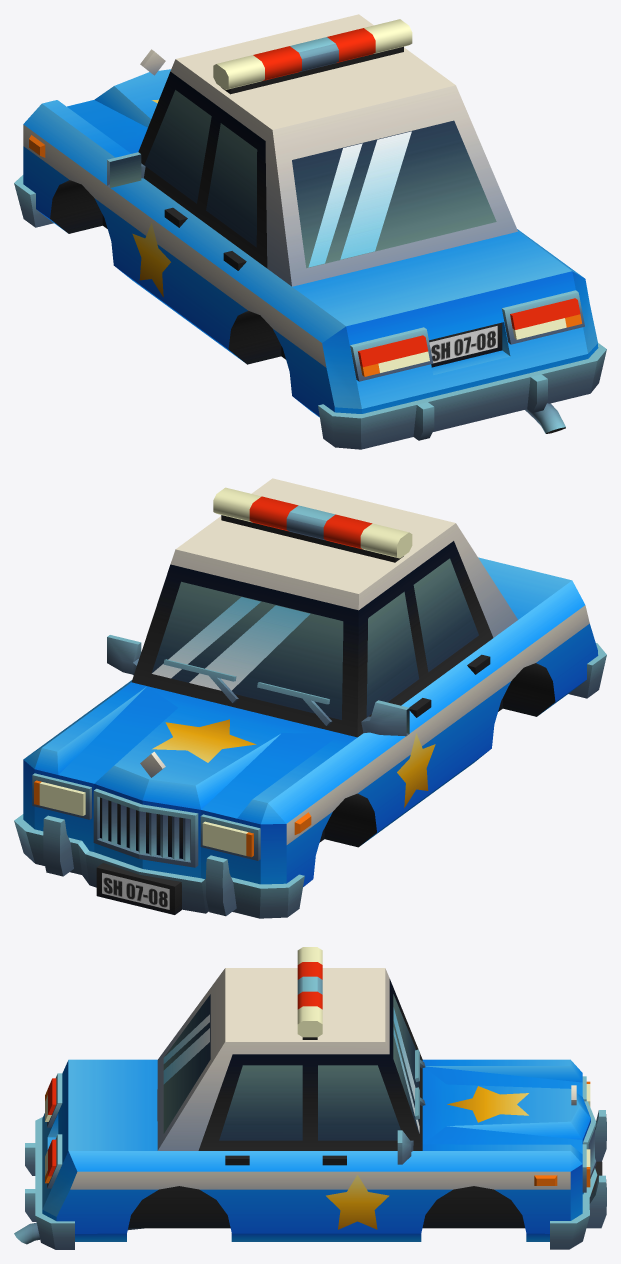
Rendered from car9.glb.
3 views of the same model, one above another, from view 1: azimuth 30°, elevation 25°; view 2: azimuth 150°, elevation 25°; view 3: azimuth 270°, elevation 25° (orthographic). The views are drawn at different scales.
Parts seen in each view (by area): view 1: model_6.001; view 2: model_6.001; view 3: model_6.001.
Part boxes in pixels (<box>): model_6.001: <box>14,14,606,449</box>; model_6.001: <box>14,478,606,918</box>; model_6.001: <box>14,947,606,1249</box>.
Bounding box in the file's own units: 150 × 134 × 312.
Materials: 1 (1 with a texture image).
